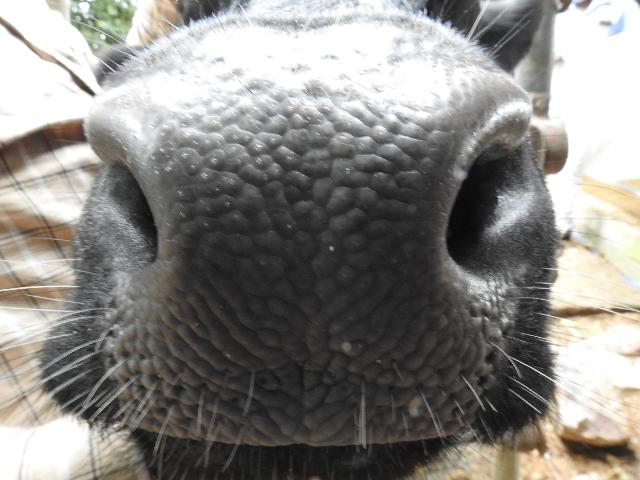Muzzle: (154, 88, 436, 432)
